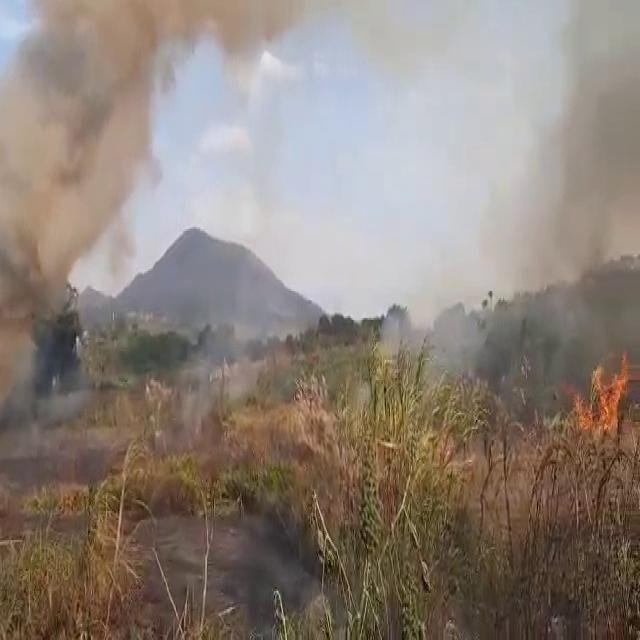Fire: (567, 351, 640, 444)
Smoke: (0, 1, 161, 478), (505, 0, 640, 349), (346, 298, 502, 441), (164, 2, 327, 98), (167, 278, 245, 441)
